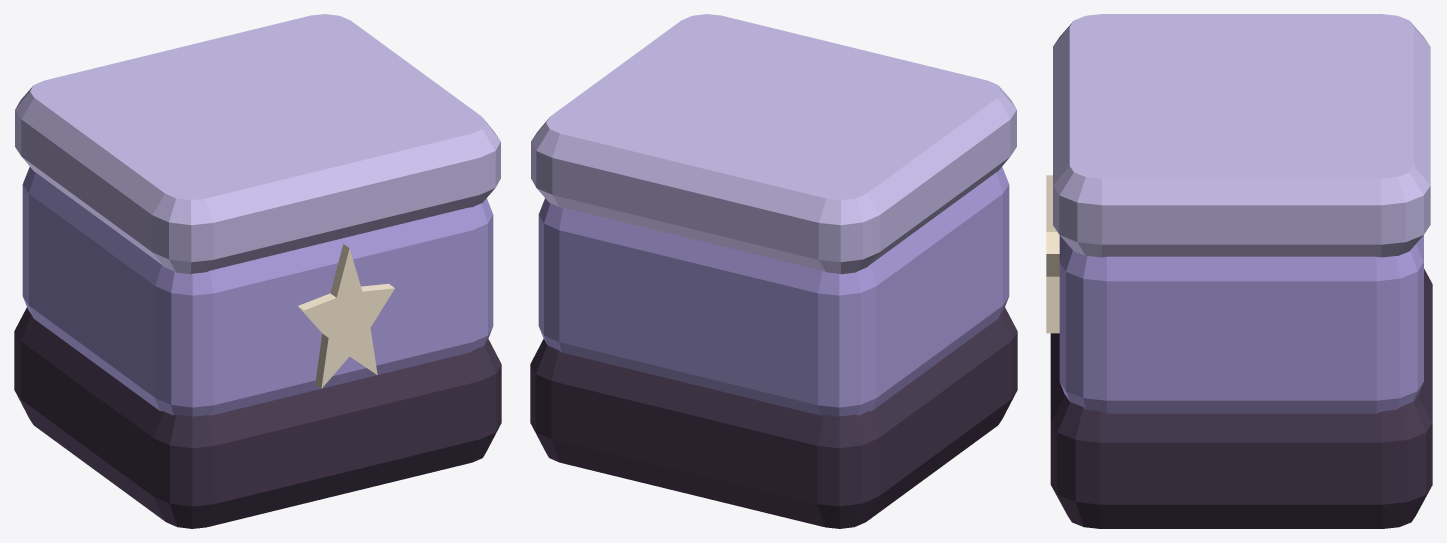
The model's file is answer_pedestal.glb.
3 views of the same model, side by side, from view 1: azimuth 30°, elevation 25°; view 2: azimuth 150°, elevation 25°; view 3: azimuth 270°, elevation 25° (orthographic). The views are drawn at different scales.
Visible parts, largest first — view 1: model; view 2: model; view 3: model.
Boxes of the visible parts, bbox=[...] form: model: bbox=[14, 14, 501, 528]; model: bbox=[530, 14, 1017, 528]; model: bbox=[1046, 14, 1432, 528].
Bounding box in the file's own units: 0.6 × 0.55 × 0.55.
